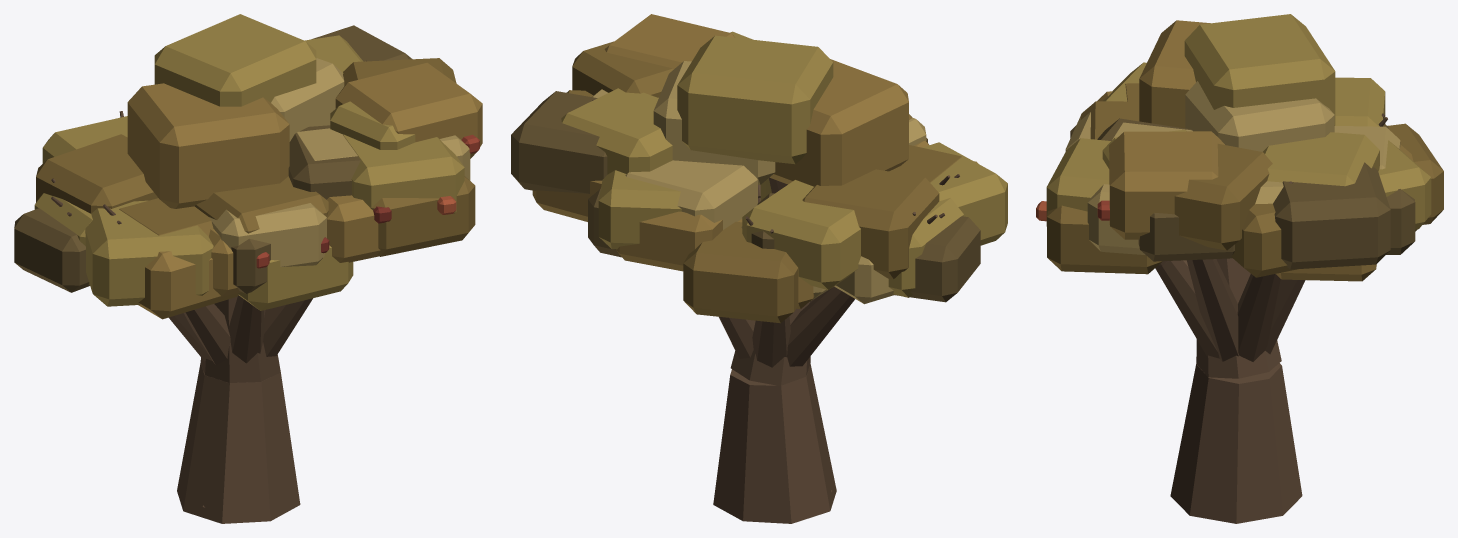
File: apple_ancient_autumn_fruiting_3.glb
3 renders of one model, left to right at view 1: azimuth 30°, elevation 25°; view 2: azimuth 150°, elevation 25°; view 3: azimuth 270°, elevation 25°, orthographic. The views are drawn at different scales.
Parts seen in each view (by area): view 1: apple_ancient_autumn_fruiting_3; view 2: apple_ancient_autumn_fruiting_3; view 3: apple_ancient_autumn_fruiting_3.
Boxes of the visible parts, x1=… form: apple_ancient_autumn_fruiting_3: x1=14, y1=14, x2=482, y2=523; apple_ancient_autumn_fruiting_3: x1=511, y1=14, x2=1007, y2=523; apple_ancient_autumn_fruiting_3: x1=1036, y1=14, x2=1443, y2=523.
Size of the model in its own units: 17.42 by 18 by 14.52.
